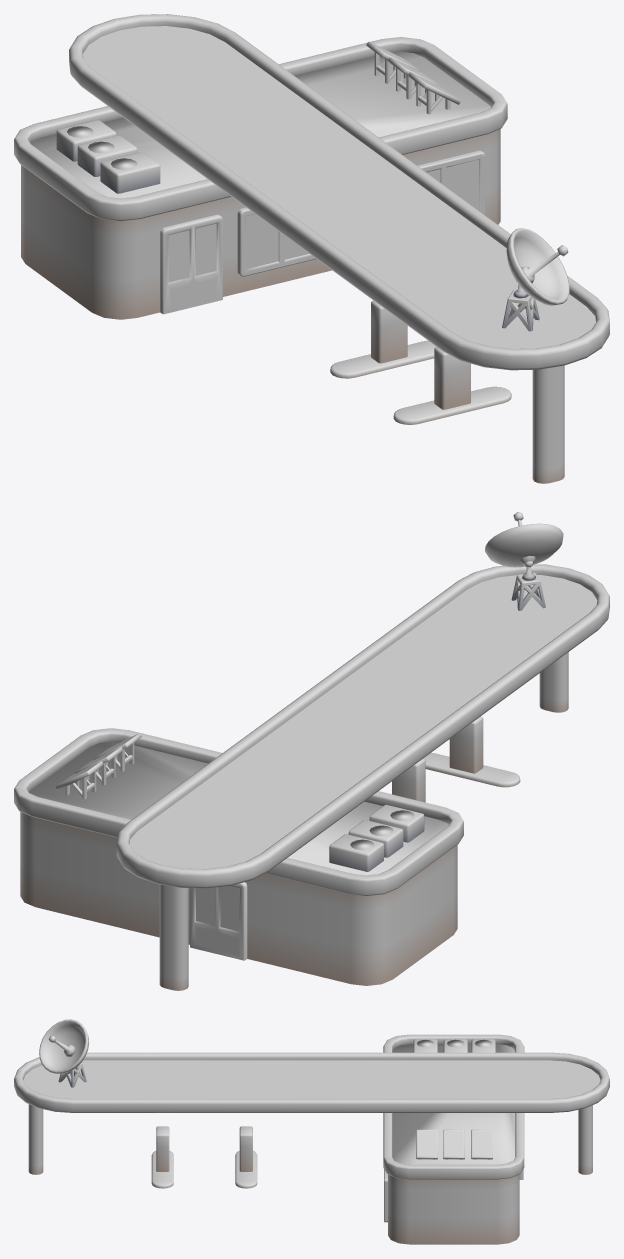
File: NF_Pbl_Bld_Gas Station.fbx
3 renders of one model, top to bottom at view 1: azimuth 30°, elevation 25°; view 2: azimuth 150°, elevation 25°; view 3: azimuth 270°, elevation 25°, orthographic. The views are drawn at different scales.
Visible parts, largest first — view 1: Gas Station; view 2: Gas Station; view 3: Gas Station.
Part boxes in pixels (x1,y1,x2,y2): Gas Station: (14, 14, 609, 483); Gas Station: (14, 512, 609, 990); Gas Station: (14, 1019, 609, 1244).
Bounding box in the file's own units: 14.4 × 7.42 × 27.1.
